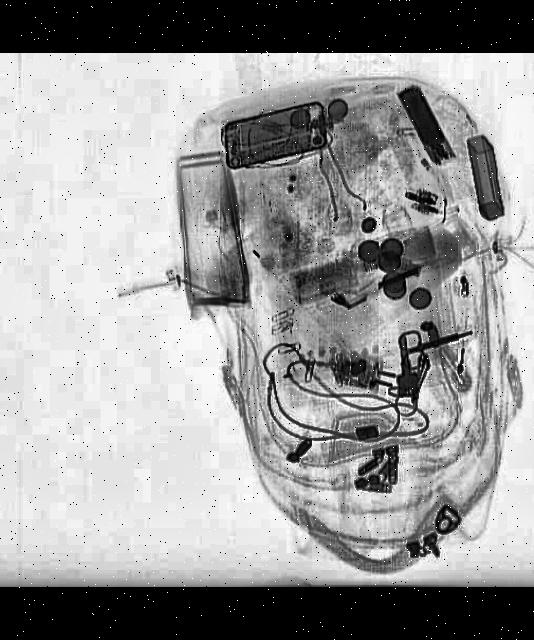Scissors: (392, 316, 478, 374)
